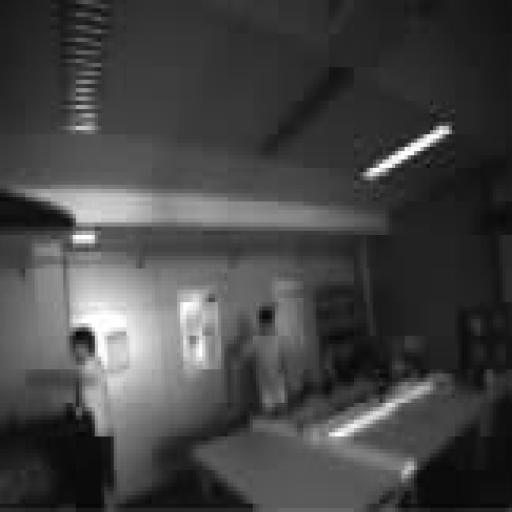human: (70, 328, 113, 507), (247, 307, 287, 415)
